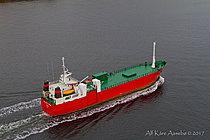Ship: (40, 42, 170, 117)
